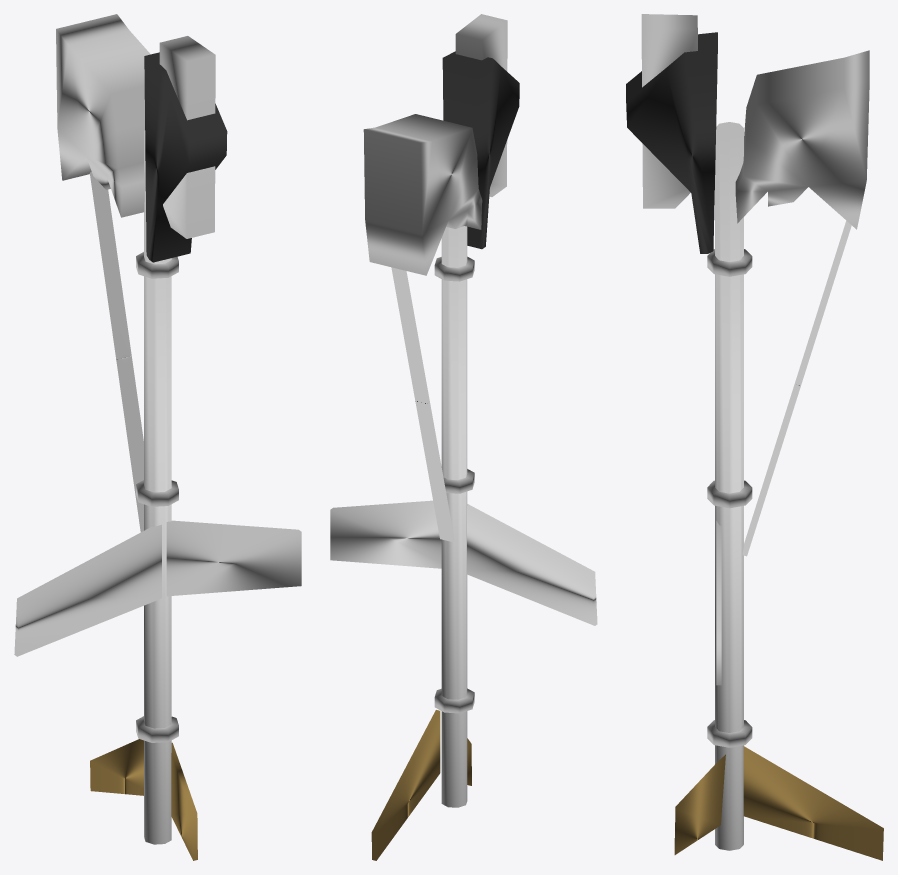
The model's file is Heli_col.obj.
3 renders of one model, left to right at view 1: azimuth 30°, elevation 25°; view 2: azimuth 150°, elevation 25°; view 3: azimuth 270°, elevation 25°, orthographic. The views are drawn at different scales.
Visible parts, largest first — view 1: Line05, Line04, Cylinder01, Line03, Line06, Box03, Line01, Line02, Cylinder12, Cylinder13, Cylinder14; view 2: Line04, Line05, Cylinder01, Line03, Box03, Line01, Line06, Cylinder12, Cylinder14; view 3: Cylinder01, Line04, Line03, Line01, Line06, Line02, Box03, Line05, Cylinder14, Cylinder12, Cylinder13.
Part boxes in pixels (<box>): Line05: <box>14,520,301,656</box>; Line04: <box>56,14,150,217</box>; Cylinder01: <box>144,130,171,844</box>; Line03: <box>144,52,227,262</box>; Line06: <box>159,36,215,238</box>; Box03: <box>89,172,143,531</box>; Line01: <box>90,739,143,795</box>; Line02: <box>171,742,197,860</box>; Cylinder12: <box>136,716,178,742</box>; Cylinder13: <box>136,480,178,506</box>; Cylinder14: <box>136,252,178,278</box>; Line04: <box>363,114,482,275</box>; Line05: <box>330,500,597,625</box>; Cylinder01: <box>441,226,467,807</box>; Line03: <box>442,51,519,249</box>; Box03: <box>391,267,454,541</box>; Line01: <box>371,710,440,860</box>; Line06: <box>455,14,507,196</box>; Cylinder12: <box>434,688,474,713</box>; Cylinder14: <box>434,256,474,281</box>; Cylinder01: <box>715,122,743,850</box>; Line04: <box>735,50,869,229</box>; Line03: <box>626,32,717,253</box>; Line01: <box>743,746,883,860</box>; Line06: <box>641,14,697,208</box>; Line02: <box>674,754,725,854</box>; Box03: <box>742,221,851,556</box>; Line05: <box>716,521,721,685</box>; Cylinder14: <box>707,249,752,276</box>; Cylinder12: <box>707,720,752,747</box>; Cylinder13: <box>707,480,752,508</box>.
Size of the model in its own units: 0.9441 by 2.61 by 0.7305.
